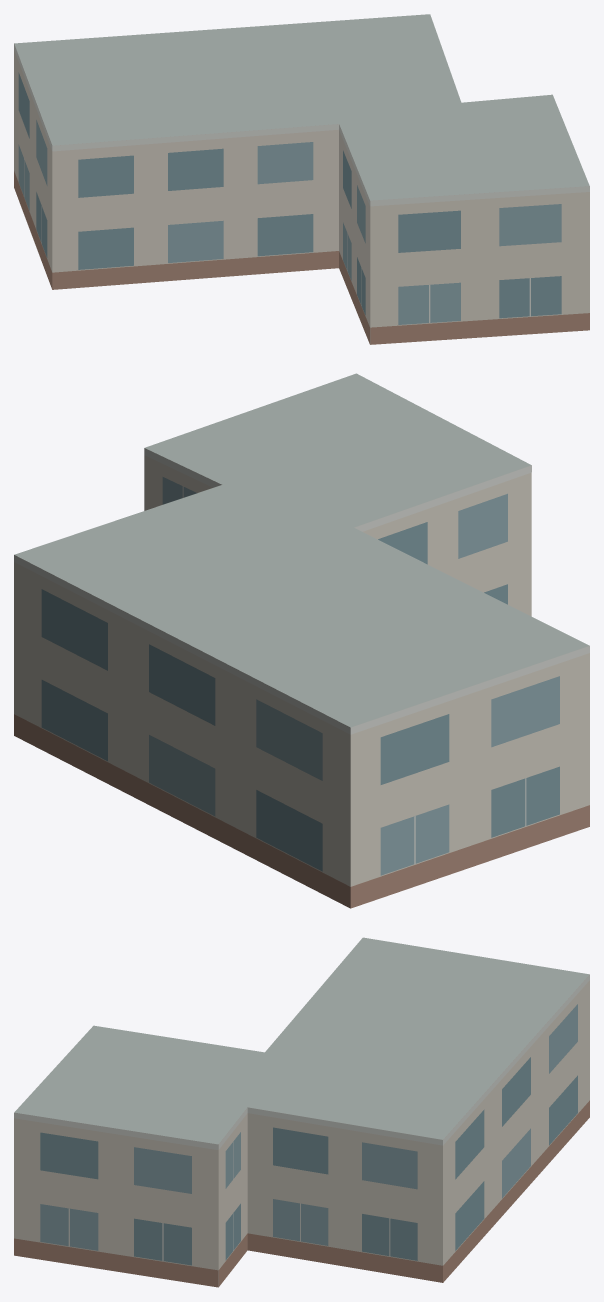
Rendered from survey-upis-32552834.glb.
The picture shows the model from 3 angles, top to bottom: view 1: azimuth 30°, elevation 25°; view 2: azimuth 150°, elevation 25°; view 3: azimuth 270°, elevation 25°; orthographic projection. The views are drawn at different scales.
Visible parts, largest first — view 1: survey-upis-32552834.tmp; view 2: survey-upis-32552834.tmp; view 3: survey-upis-32552834.tmp.
Part boxes in pixels (<box>): survey-upis-32552834.tmp: <box>14,14,589,344</box>; survey-upis-32552834.tmp: <box>14,373,589,908</box>; survey-upis-32552834.tmp: <box>14,937,589,1287</box>.
Size of the model in its own units: 18.95 by 6.1 by 22.27.
